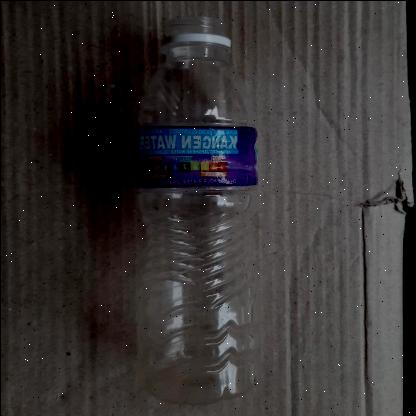Plastic Bottle: (122, 30, 262, 408)
